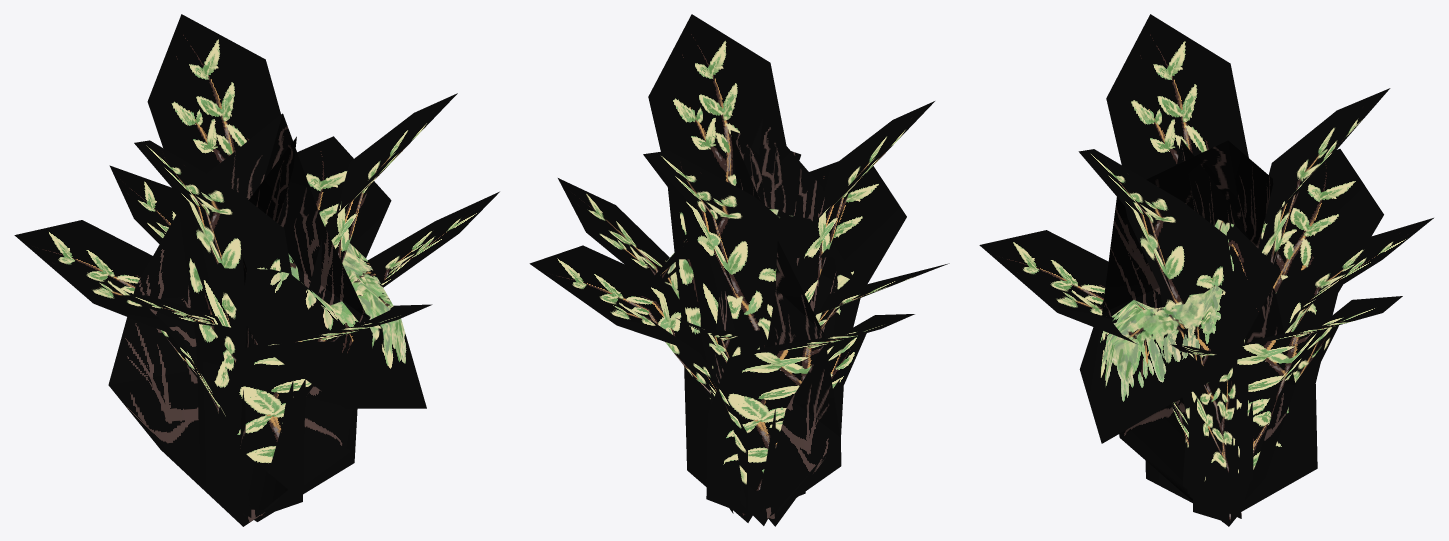
File: Plant_JelloBush_Slim.fbx
3 views of the same model, side by side, from view 1: azimuth 30°, elevation 25°; view 2: azimuth 150°, elevation 25°; view 3: azimuth 270°, elevation 25° (orthographic). The views are drawn at different scales.
Visible parts, largest first — view 1: Plant JelloBush Slim; view 2: Plant JelloBush Slim; view 3: Plant JelloBush Slim.
Part boxes in pixels (<box>): Plant JelloBush Slim: <box>14,14,499,526</box>; Plant JelloBush Slim: <box>529,14,949,526</box>; Plant JelloBush Slim: <box>979,14,1433,526</box>.
Bounding box in the file's own units: 114 × 119 × 111.
